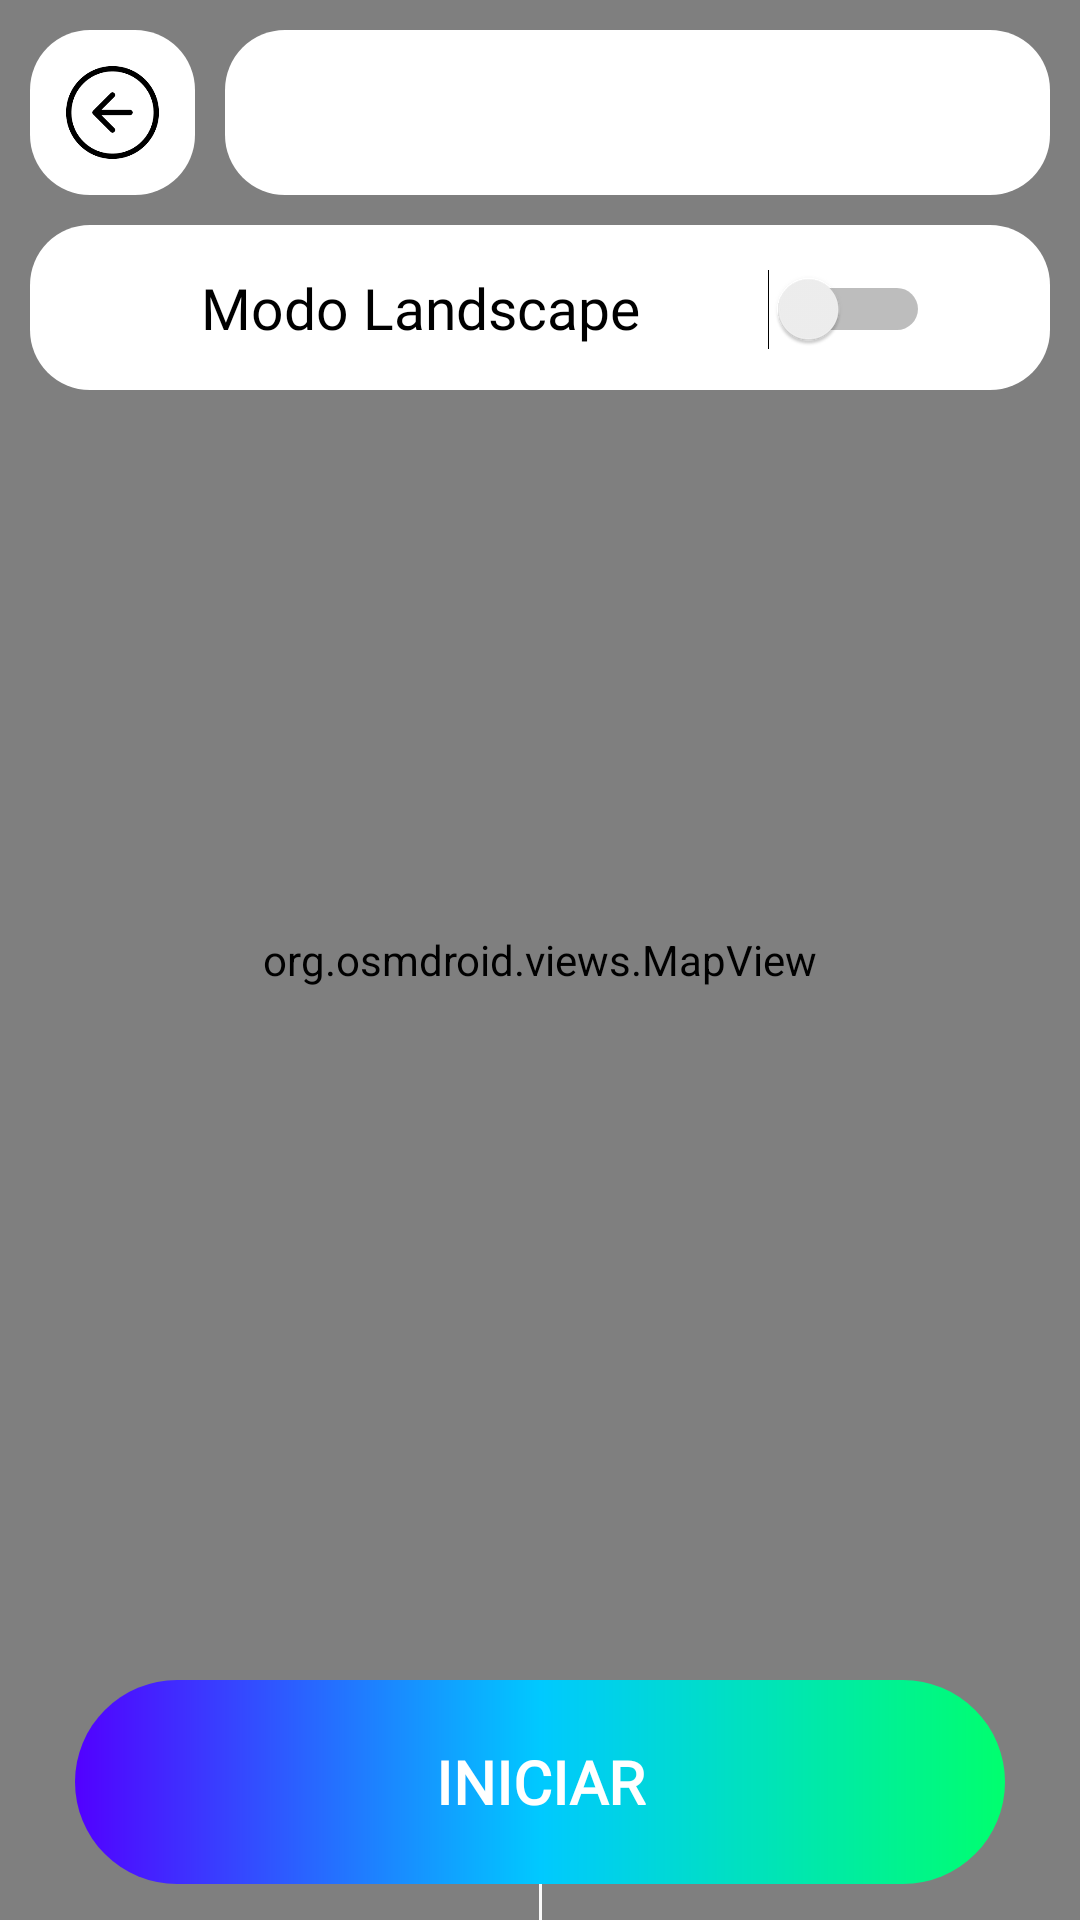

Icons on this 1080 × 1920 Android screen, each with its box as (left=x1, top=y1, right=x2, bottom=y2):
Boton para volver atrás: (left=30, top=30, right=195, bottom=195)
